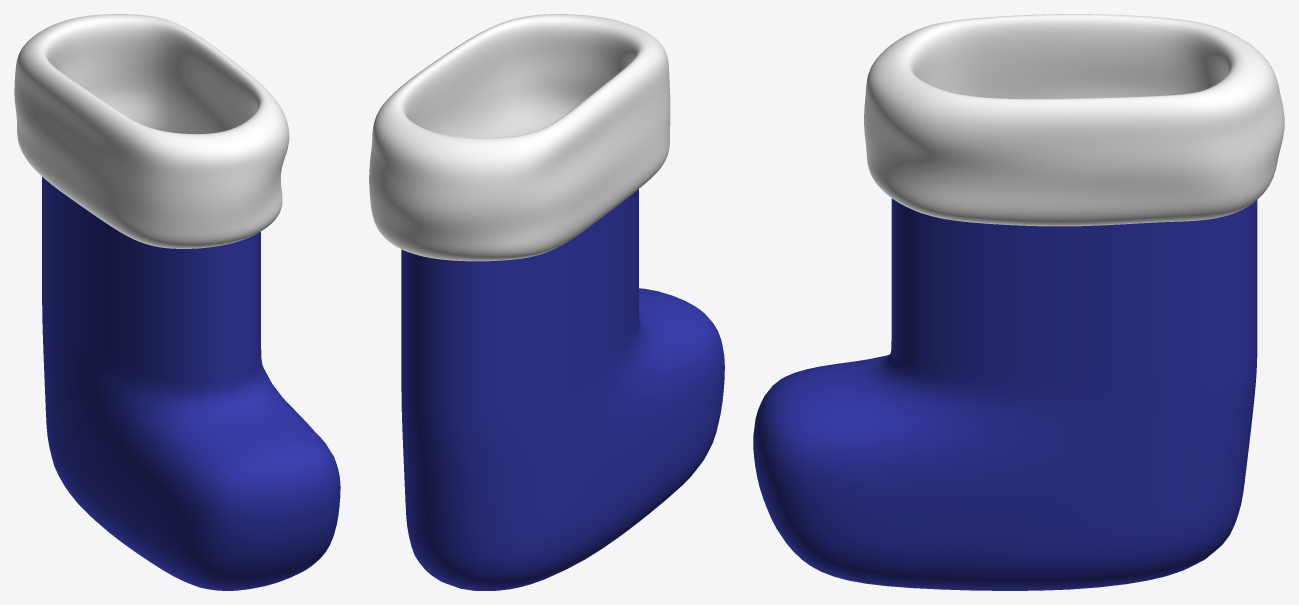
Rendered from Sock02.fbx.
3 renders of one model, left to right at view 1: azimuth 30°, elevation 25°; view 2: azimuth 150°, elevation 25°; view 3: azimuth 270°, elevation 25°, orthographic. The views are drawn at different scales.
Visible parts, largest first — view 1: Sock 02; view 2: Sock 02; view 3: Sock 02.
Part boxes in pixels (x1,y1,x2,y2): Sock 02: [14, 14, 340, 590]; Sock 02: [369, 14, 724, 590]; Sock 02: [753, 14, 1284, 590].
Bounding box in the file's own units: 57.96 × 145 × 134.
